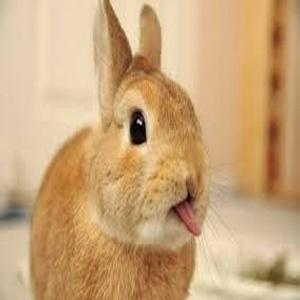rabbit: (33, 0, 210, 300)
